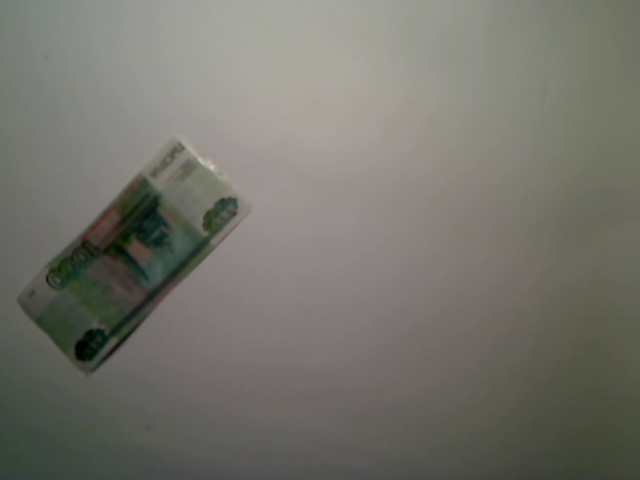banknotes: (10, 131, 257, 381)
